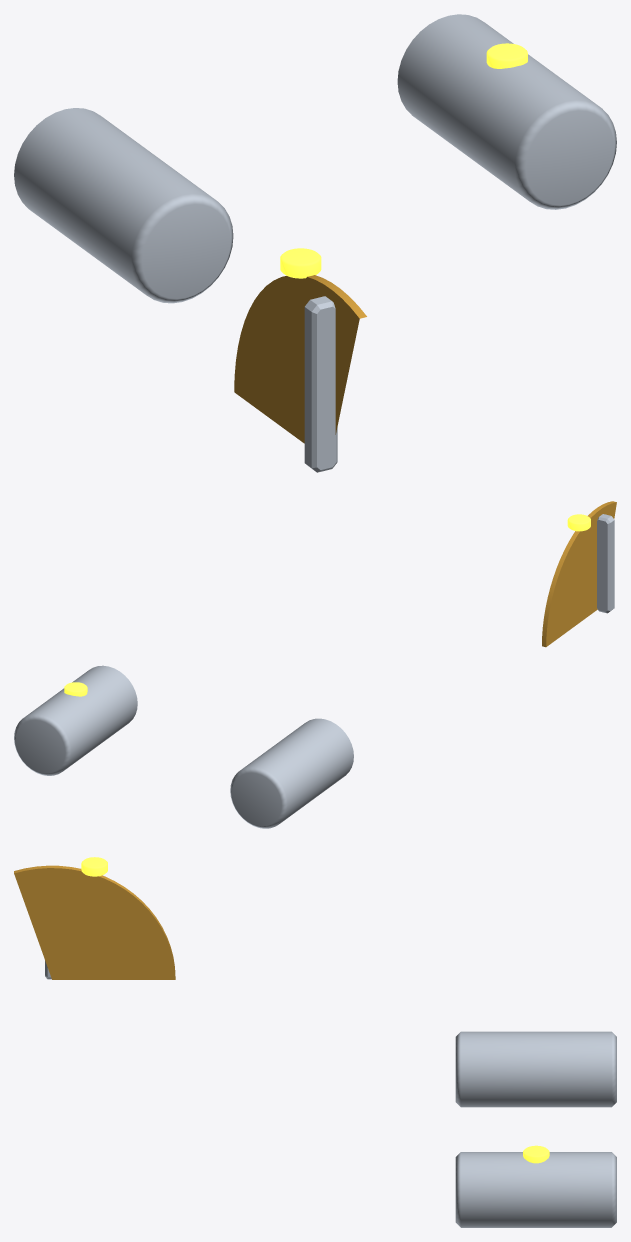
The model's file is tower_nova_range_s3.glb.
3 renders of one model, top to bottom at view 1: azimuth 30°, elevation 25°; view 2: azimuth 150°, elevation 25°; view 3: azimuth 270°, elevation 25°, orthographic. The views are drawn at different scales.
Parts seen in each view (by area): view 1: nova_recup_ext_r, nova_recup_ext_l, nova_quadrant_plate, nova_quadrant_pointer, nova_up_range_l2_stud, nova_up_range_l3_stud; view 2: nova_recup_ext_r, nova_recup_ext_l, nova_quadrant_plate, nova_quadrant_pointer; view 3: nova_quadrant_plate, nova_recup_ext_r, nova_recup_ext_l.
Boxes of the visible parts, box(x1,y1,x2,y2) form: nova_recup_ext_r: box(14, 108, 233, 303); nova_recup_ext_l: box(397, 14, 616, 209); nova_quadrant_plate: box(234, 275, 366, 443); nova_quadrant_pointer: box(304, 296, 337, 472); nova_up_range_l2_stud: box(280, 248, 321, 278); nova_up_range_l3_stud: box(486, 43, 527, 68); nova_recup_ext_r: box(230, 718, 353, 828); nova_recup_ext_l: box(14, 665, 137, 775); nova_quadrant_plate: box(542, 501, 616, 647); nova_quadrant_pointer: box(597, 514, 614, 613); nova_quadrant_plate: box(14, 865, 175, 979); nova_recup_ext_r: box(455, 1031, 616, 1107); nova_recup_ext_l: box(455, 1152, 616, 1227).
Size of the model in its own units: 0.9804 by 0.4409 by 1.27.
